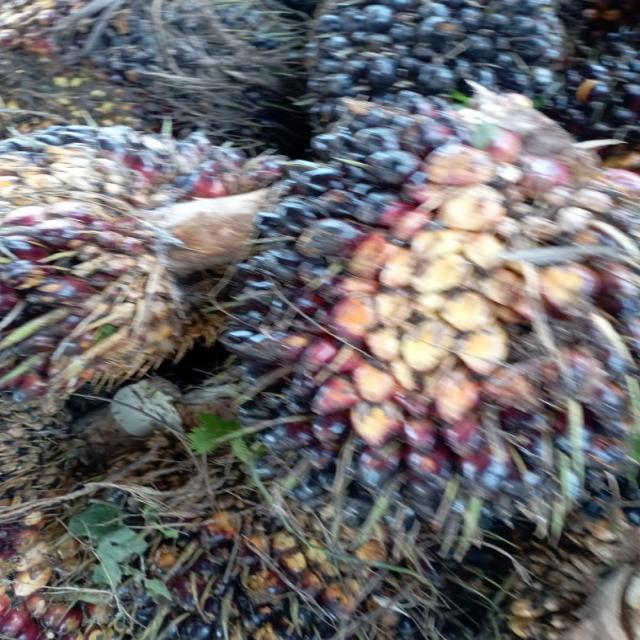fraksi 1: (207, 71, 640, 565)
